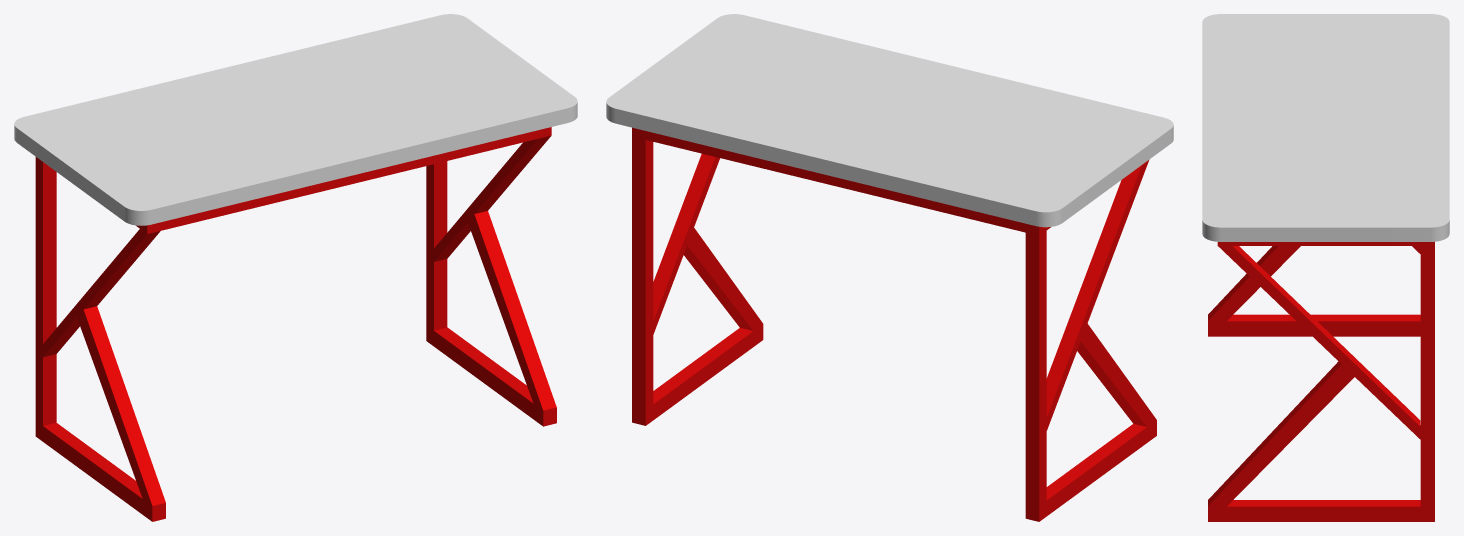
The model's file is Bureau 1.fbx.
3 views of the same model, side by side, from view 1: azimuth 30°, elevation 25°; view 2: azimuth 150°, elevation 25°; view 3: azimuth 270°, elevation 25° (orthographic). The views are drawn at different scales.
Parts seen in each view (by area): view 1: Dessus, Pattes; view 2: Dessus, Pattes; view 3: Dessus, Pattes.
Part boxes in pixels (left/top/right/bottom): Dessus: left=14, top=14, right=577, bottom=225; Pattes: left=35, top=127, right=556, bottom=521; Dessus: left=606, top=14, right=1173, bottom=227; Pattes: left=632, top=127, right=1156, bottom=521; Dessus: left=1202, top=14, right=1449, bottom=241; Pattes: left=1208, top=241, right=1434, bottom=521.
Size of the model in its own units: 1.11 by 0.7447 by 0.5444.
